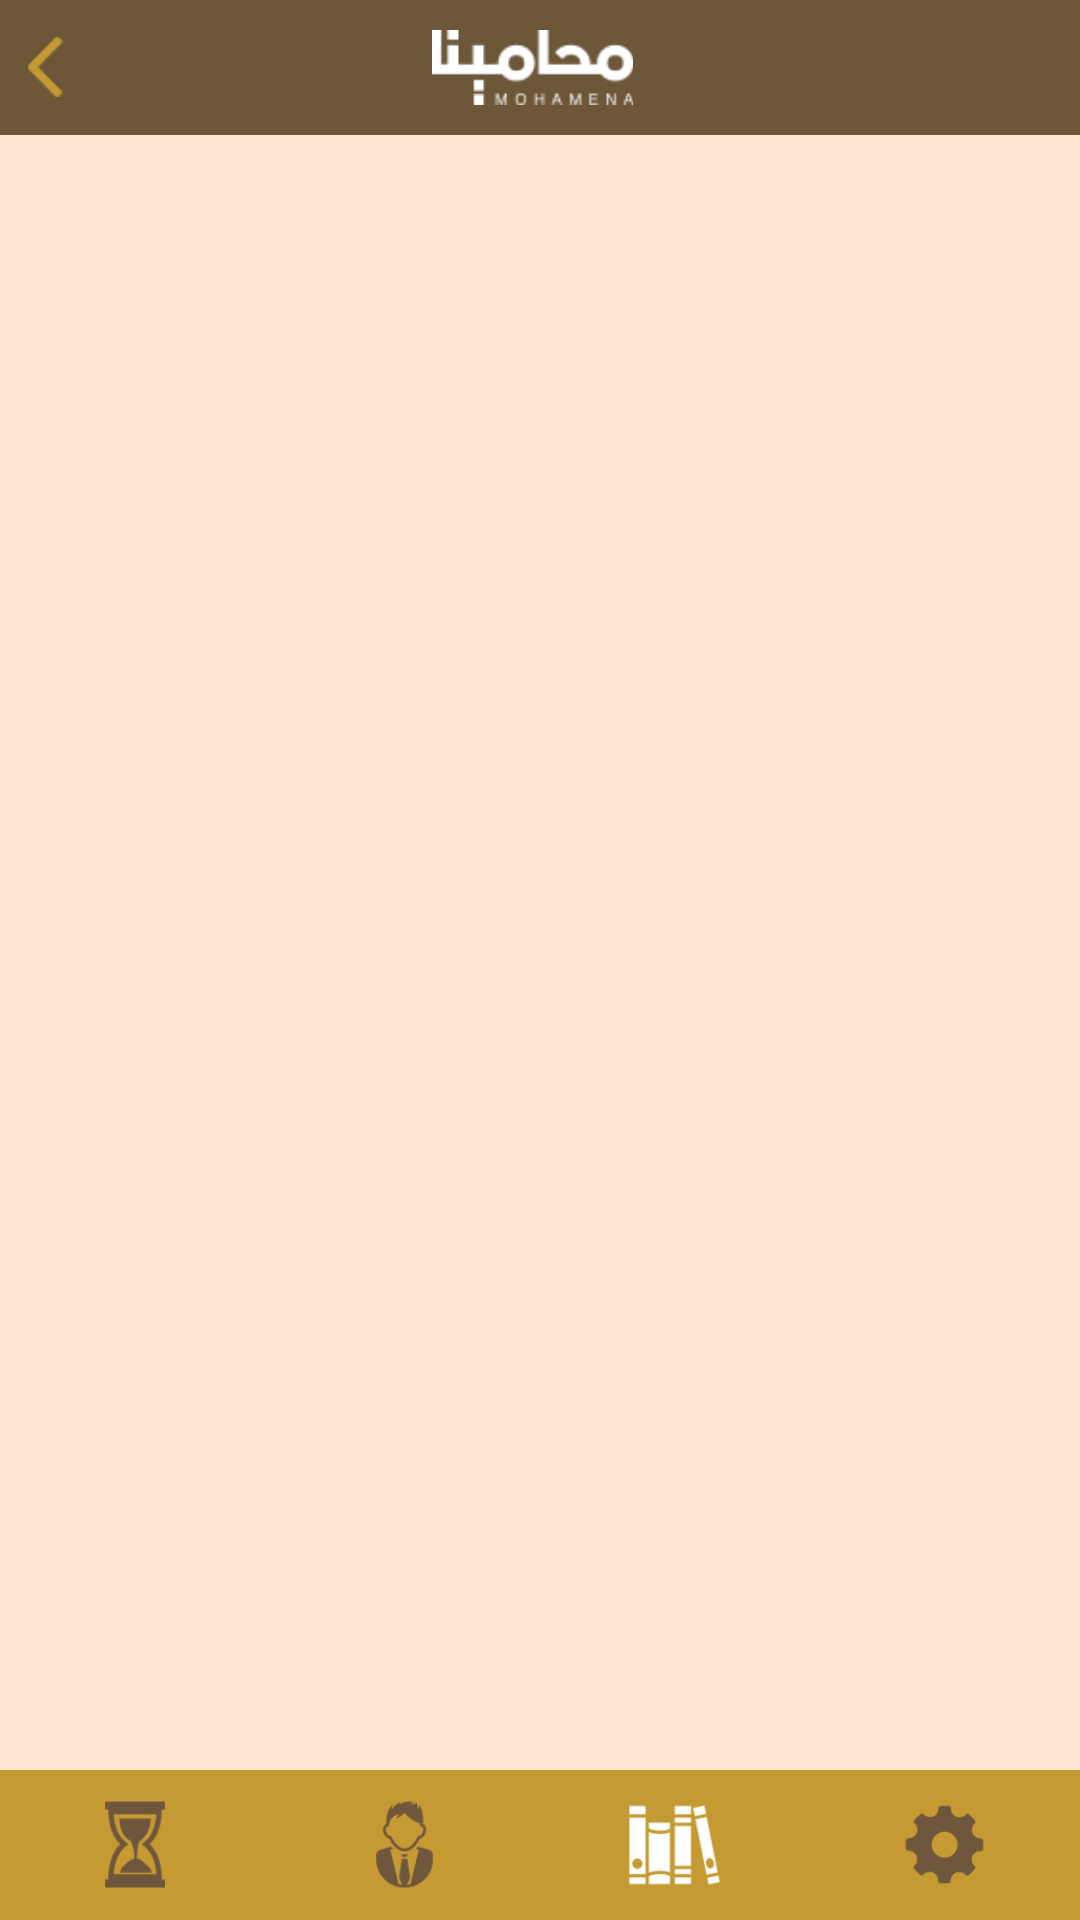

Where to tap for icons on this 1080 x 1920 app screen, as point (x, y):
back: point (45, 67)
books: point (674, 1845)
loader: point (135, 1844)
settings: point (944, 1844)
user: point (404, 1844)
